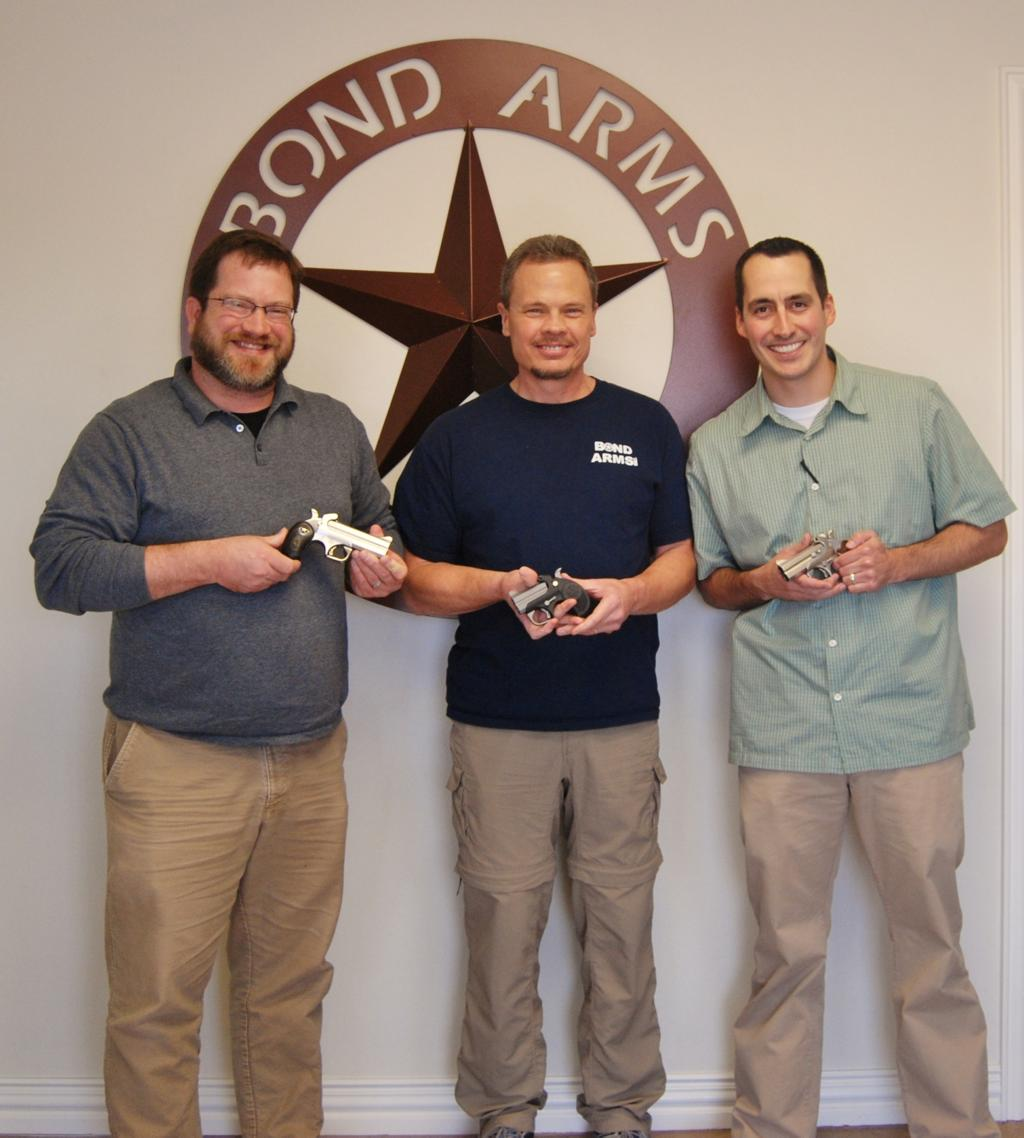face: (211, 267, 298, 383), (513, 255, 591, 373), (746, 260, 822, 369)
